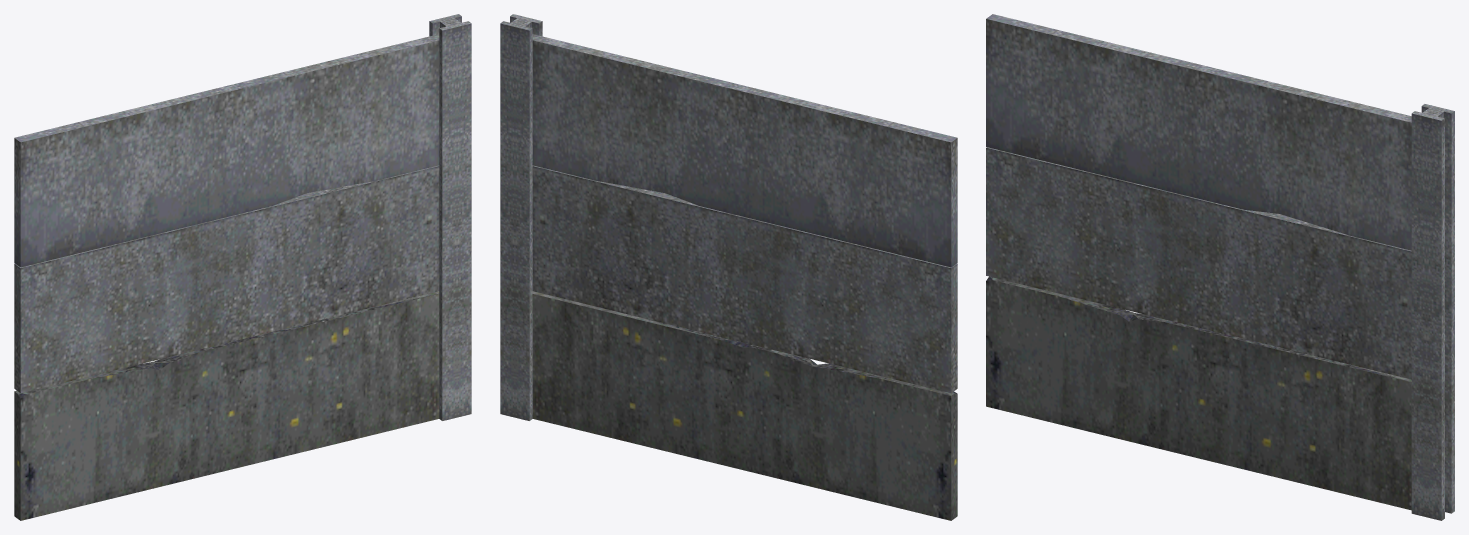
File: ConcreteSlabFence_Panel_Open03_Model.fbx
3 views of the same model, side by side, from view 1: azimuth 30°, elevation 25°; view 2: azimuth 150°, elevation 25°; view 3: azimuth 330°, elevation 25° (orthographic). The views are drawn at different scales.
Visible parts, largest first — view 1: Body; view 2: Body; view 3: Body.
Part boxes in pixels (<box>): Body: <box>14,14,471,520</box>; Body: <box>500,14,957,520</box>; Body: <box>986,14,1454,520</box>.
Bounding box in the file's own units: 300 × 250 × 15.
